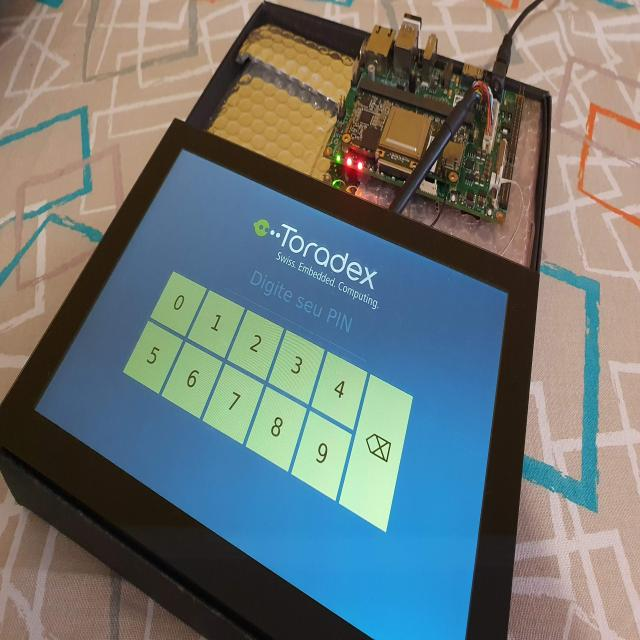som: (331, 95, 476, 189)
